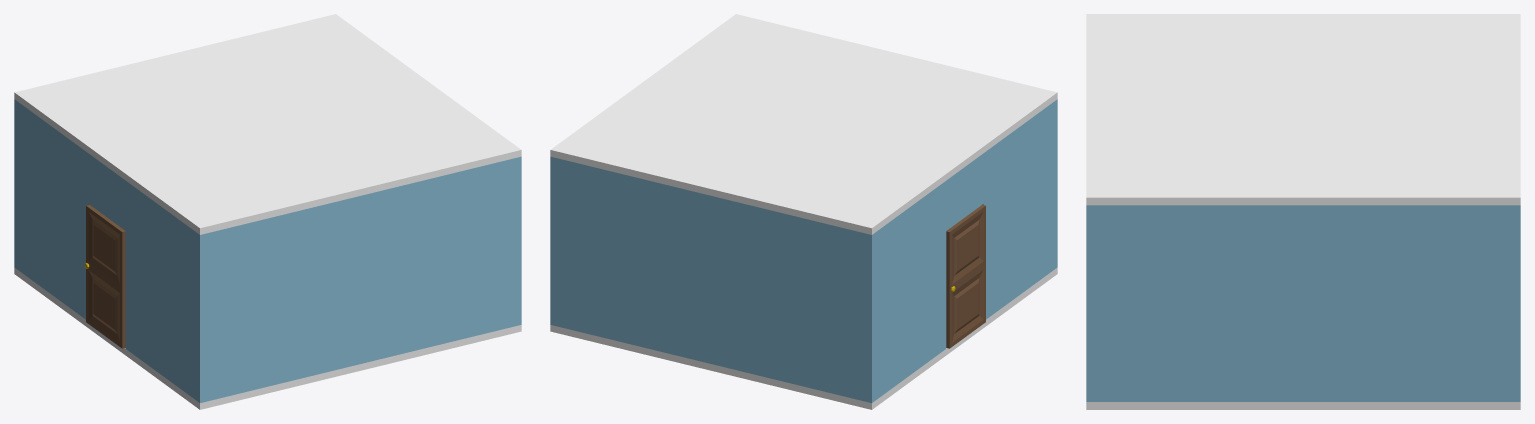
Rendered from Room_1.glb.
3 views of the same model, side by side, from view 1: azimuth 30°, elevation 25°; view 2: azimuth 150°, elevation 25°; view 3: azimuth 270°, elevation 25° (orthographic). The views are drawn at different scales.
Visible parts, largest first — view 1: Room_1_Wall, Room_1_Roof, Room_1_Door, Room_1_Floor; view 2: Room_1_Wall, Room_1_Roof, Room_1_Door, Room_1_Floor; view 3: Room_1_Wall, Room_1_Roof, Room_1_Floor.
Part boxes in pixels (x1,y1,x2,y2): Room_1_Wall: (14, 99, 521, 402); Room_1_Roof: (14, 14, 521, 234); Room_1_Door: (84, 204, 125, 348); Room_1_Floor: (14, 267, 521, 409); Room_1_Wall: (550, 99, 1057, 402); Room_1_Roof: (550, 14, 1057, 234); Room_1_Door: (946, 204, 985, 348); Room_1_Floor: (550, 267, 1057, 409); Room_1_Wall: (1086, 205, 1520, 401); Room_1_Roof: (1086, 14, 1520, 205); Room_1_Floor: (1086, 402, 1520, 409).
Size of what is drawn, in the model's own units: 5.09 by 2.7 by 5.
4 materials, 3 textured.
